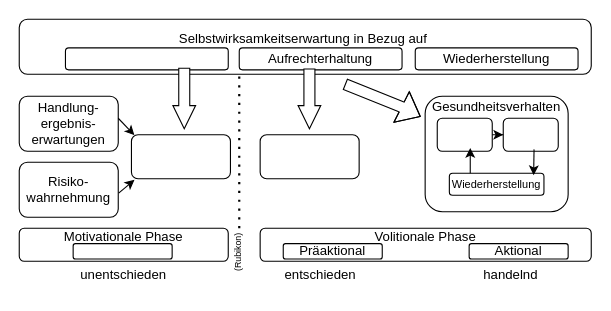
The diagram is 611 pixels wide and 311 high, and some of its shapes have lost their labels. Each missing label, with the centre of its shape:
Aufrecht- erhaltung: the point at 530,134
Initiative: the point at 464,134
Intention: the point at 180,156
Planung: the point at 309,156
Präintentional: the point at 122,251
Verhalten: the point at 146,58
